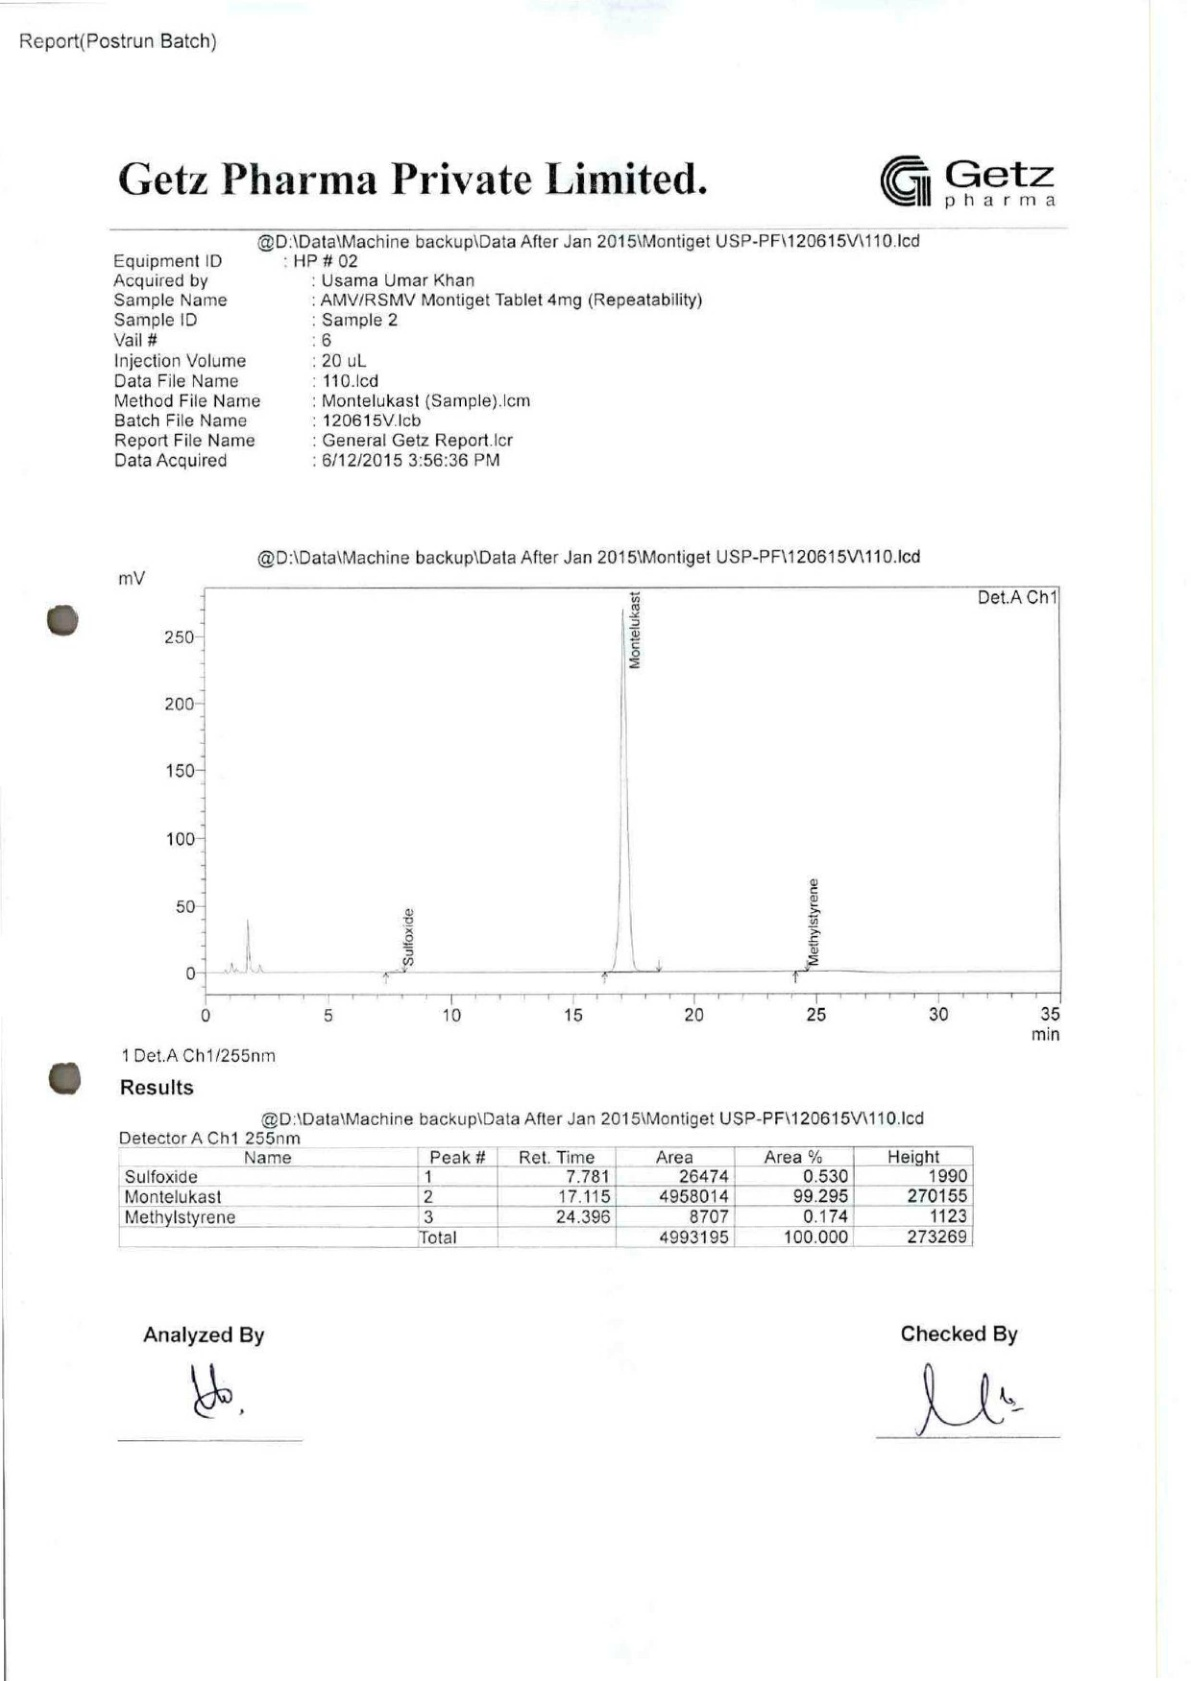full_lined: (117, 1146, 974, 1247)
nolines: (110, 251, 708, 473)
